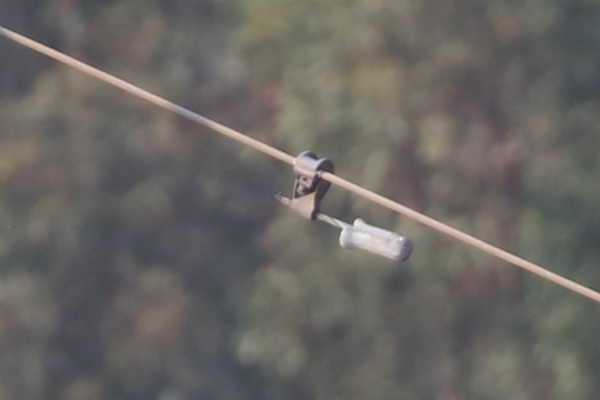damper_defect: (270, 146, 414, 266)
